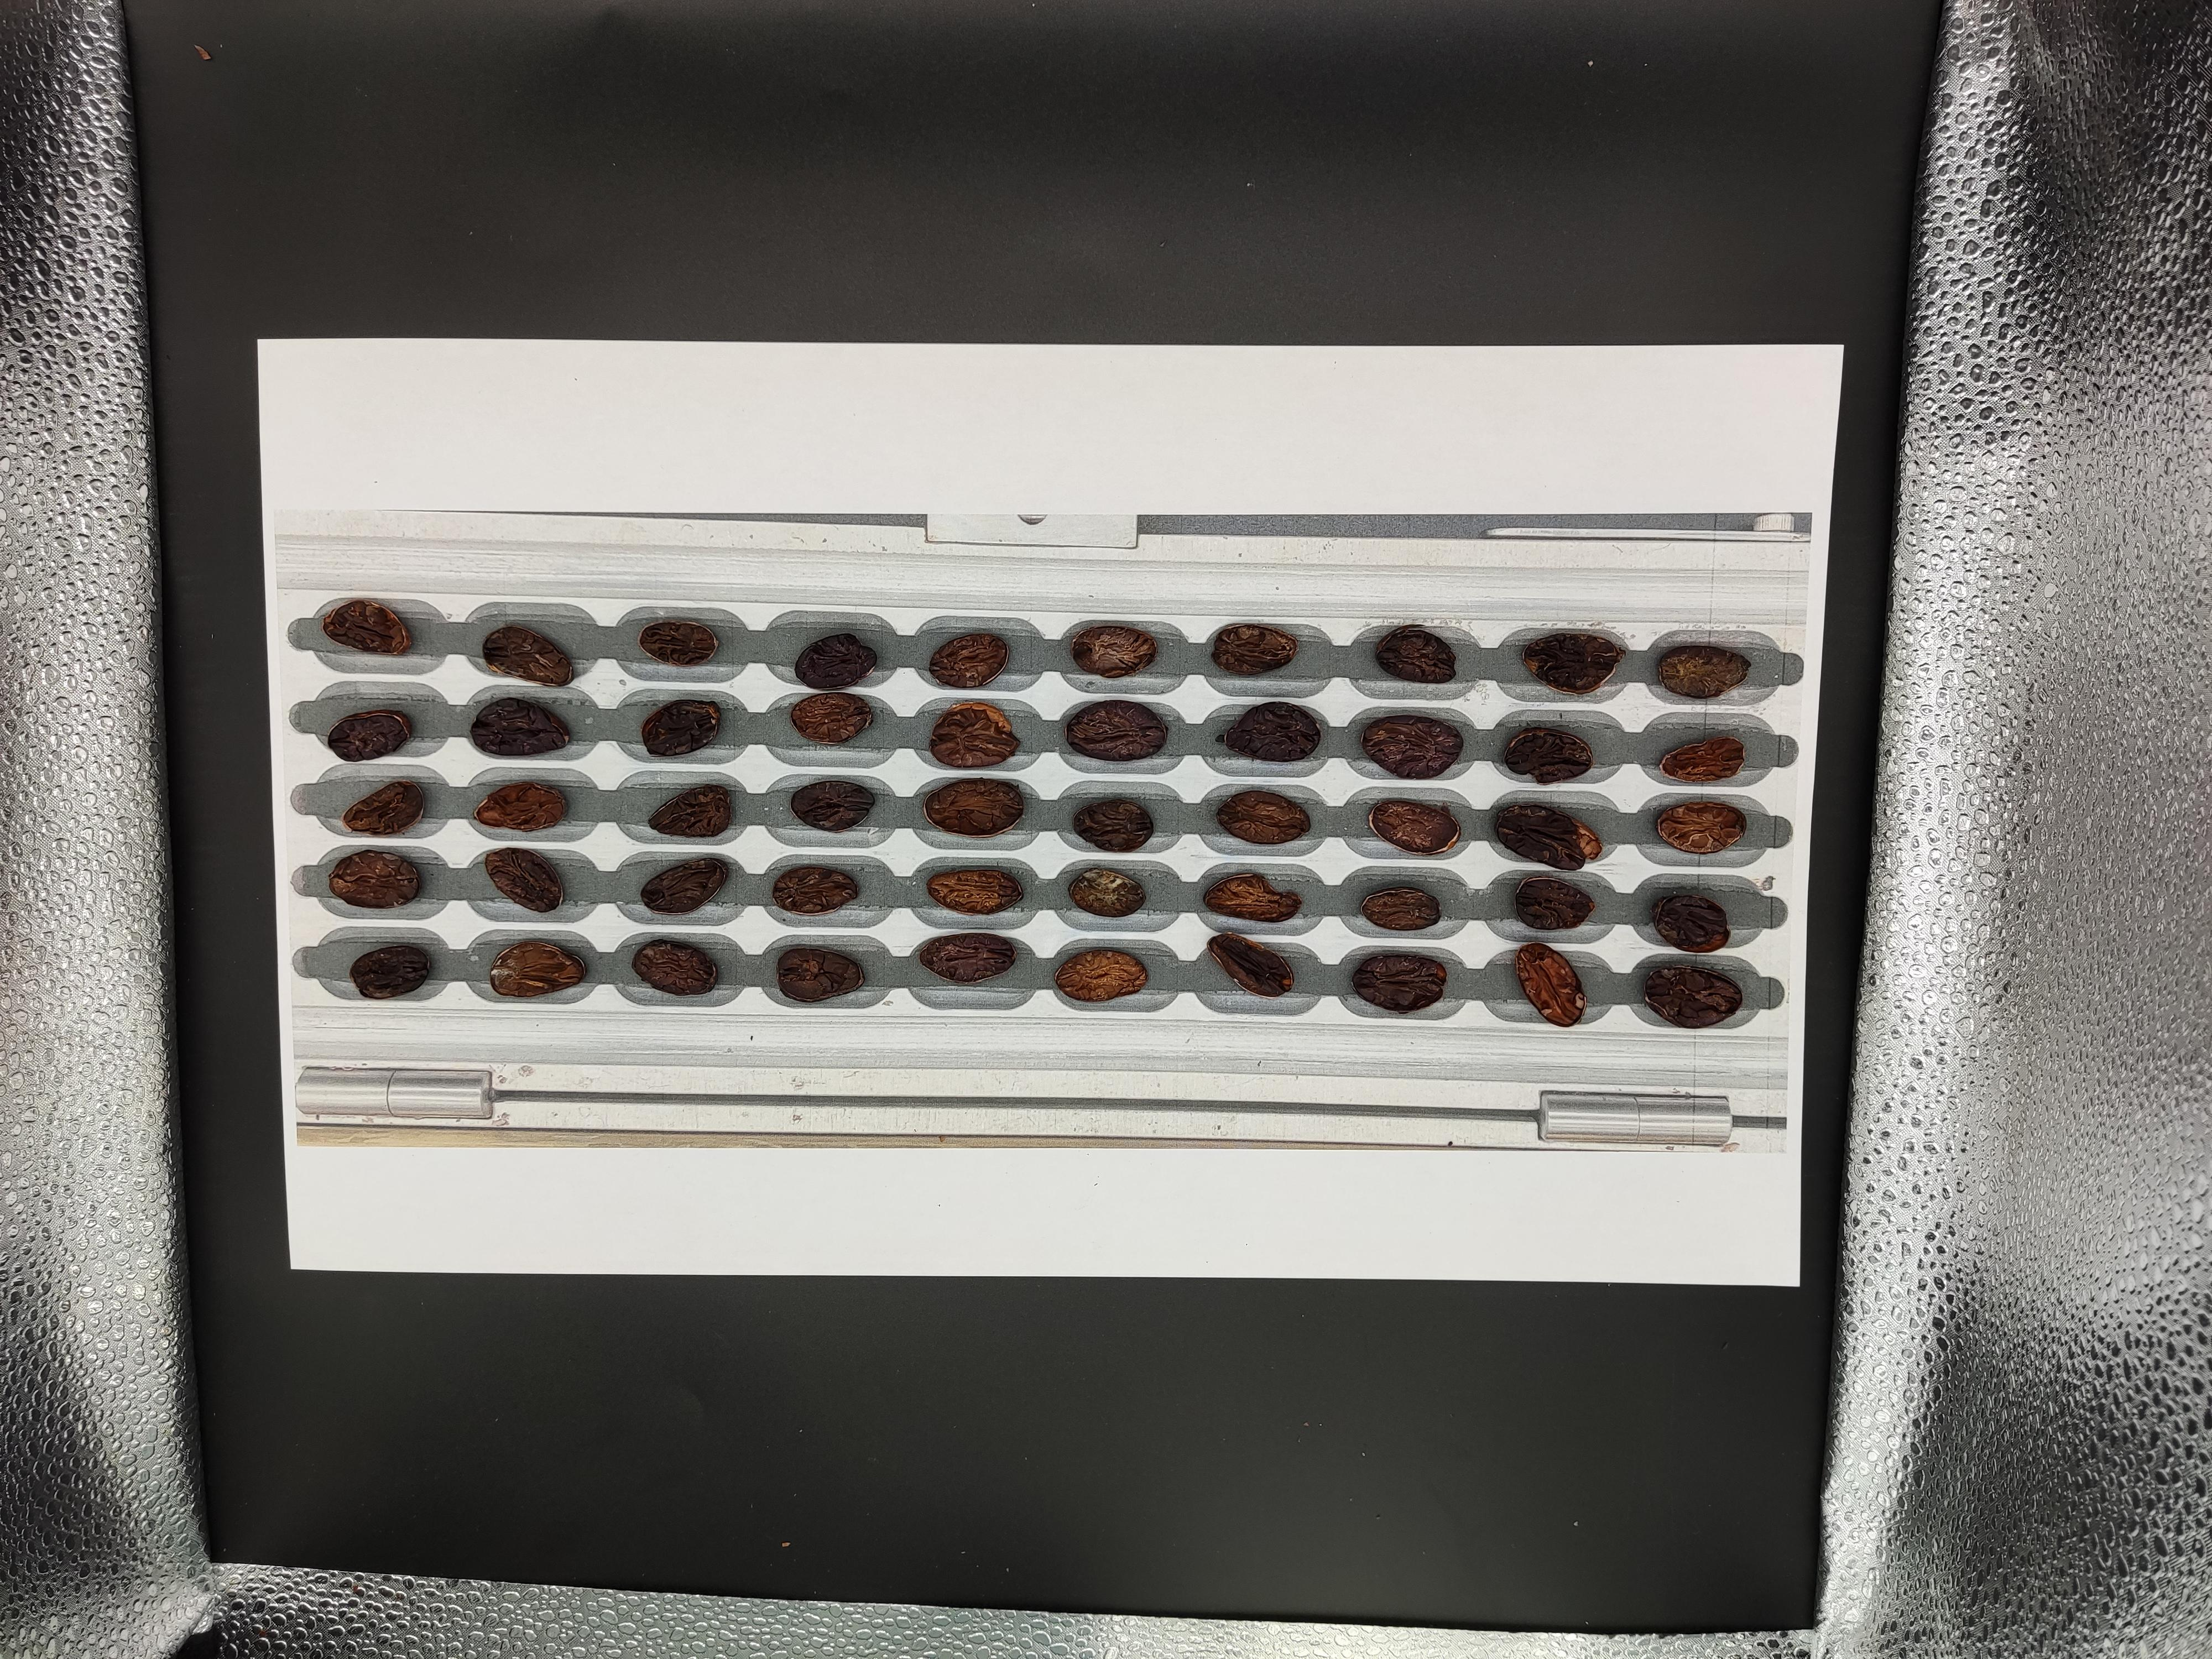Brown - G1: (1853, 484, 1897, 525), (1474, 439, 1521, 474), (1698, 317, 1749, 349), (1555, 361, 1604, 392), (1928, 375, 1975, 401)
Brown - G2: (1555, 317, 1601, 357), (1242, 303, 1292, 338), (1550, 441, 1606, 471), (1322, 397, 1374, 429), (1926, 410, 1979, 439), (1696, 444, 1749, 474), (1414, 397, 1458, 429)
Brown - G3: (1552, 397, 1606, 430), (1325, 432, 1376, 467), (1327, 319, 1376, 354), (1247, 432, 1296, 467), (1406, 477, 1453, 512), (1254, 397, 1301, 432), (1629, 317, 1672, 352), (1705, 403, 1752, 434), (1482, 354, 1531, 383), (1618, 486, 1670, 512)
Brown - G4: (1775, 455, 1820, 477)
Insect-damaged: (1926, 329, 1975, 359)
Mouldy: (1329, 481, 1383, 516), (1625, 444, 1667, 471)
Partly Purple - G1: (1851, 369, 1898, 404), (1858, 446, 1898, 477)
Partly Purple - G2: (1777, 362, 1832, 399), (1768, 488, 1822, 519)
Partly Purple - G3: (1552, 476, 1601, 504)
Partly Purple - G4: (1780, 408, 1829, 439)
Total Purple - G3: (1700, 357, 1759, 389), (1623, 357, 1677, 390), (1245, 361, 1294, 392), (1487, 322, 1533, 354)
Very Dark Brown - G1: (1858, 322, 1916, 359), (1843, 410, 1902, 444), (1928, 453, 1968, 490), (1407, 315, 1451, 343)
Very Dark Brown - G2: (1318, 357, 1378, 390), (1923, 491, 1972, 526), (1696, 477, 1743, 512), (1261, 481, 1306, 516), (1407, 356, 1454, 387), (1625, 410, 1674, 437), (1787, 319, 1827, 352)
Very Dark Brown - G3: (1407, 434, 1456, 471), (1479, 483, 1526, 516), (1484, 396, 1529, 427)
